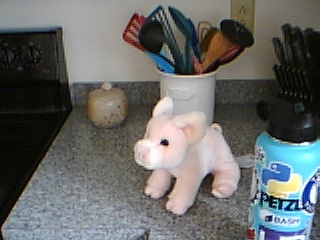piggy: (133, 96, 243, 216)
